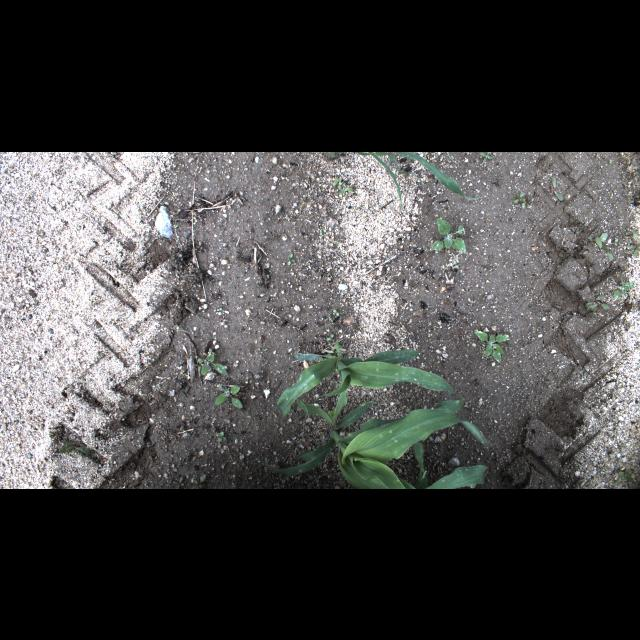crop: (263, 388, 495, 488), (276, 333, 458, 415), (356, 151, 474, 199)
weed: (428, 217, 469, 269), (474, 328, 508, 364), (197, 352, 236, 376), (214, 383, 243, 409), (591, 231, 615, 261), (584, 292, 616, 312), (58, 441, 94, 457), (613, 280, 635, 298), (332, 176, 354, 194), (550, 174, 564, 200), (511, 191, 531, 209), (478, 152, 494, 164), (216, 432, 228, 442), (334, 308, 341, 316), (288, 252, 292, 264)
